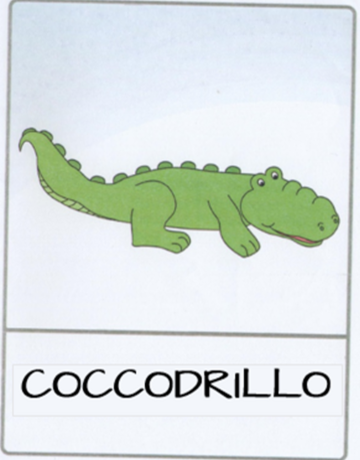coccodrillo: (6, 28, 358, 431)
